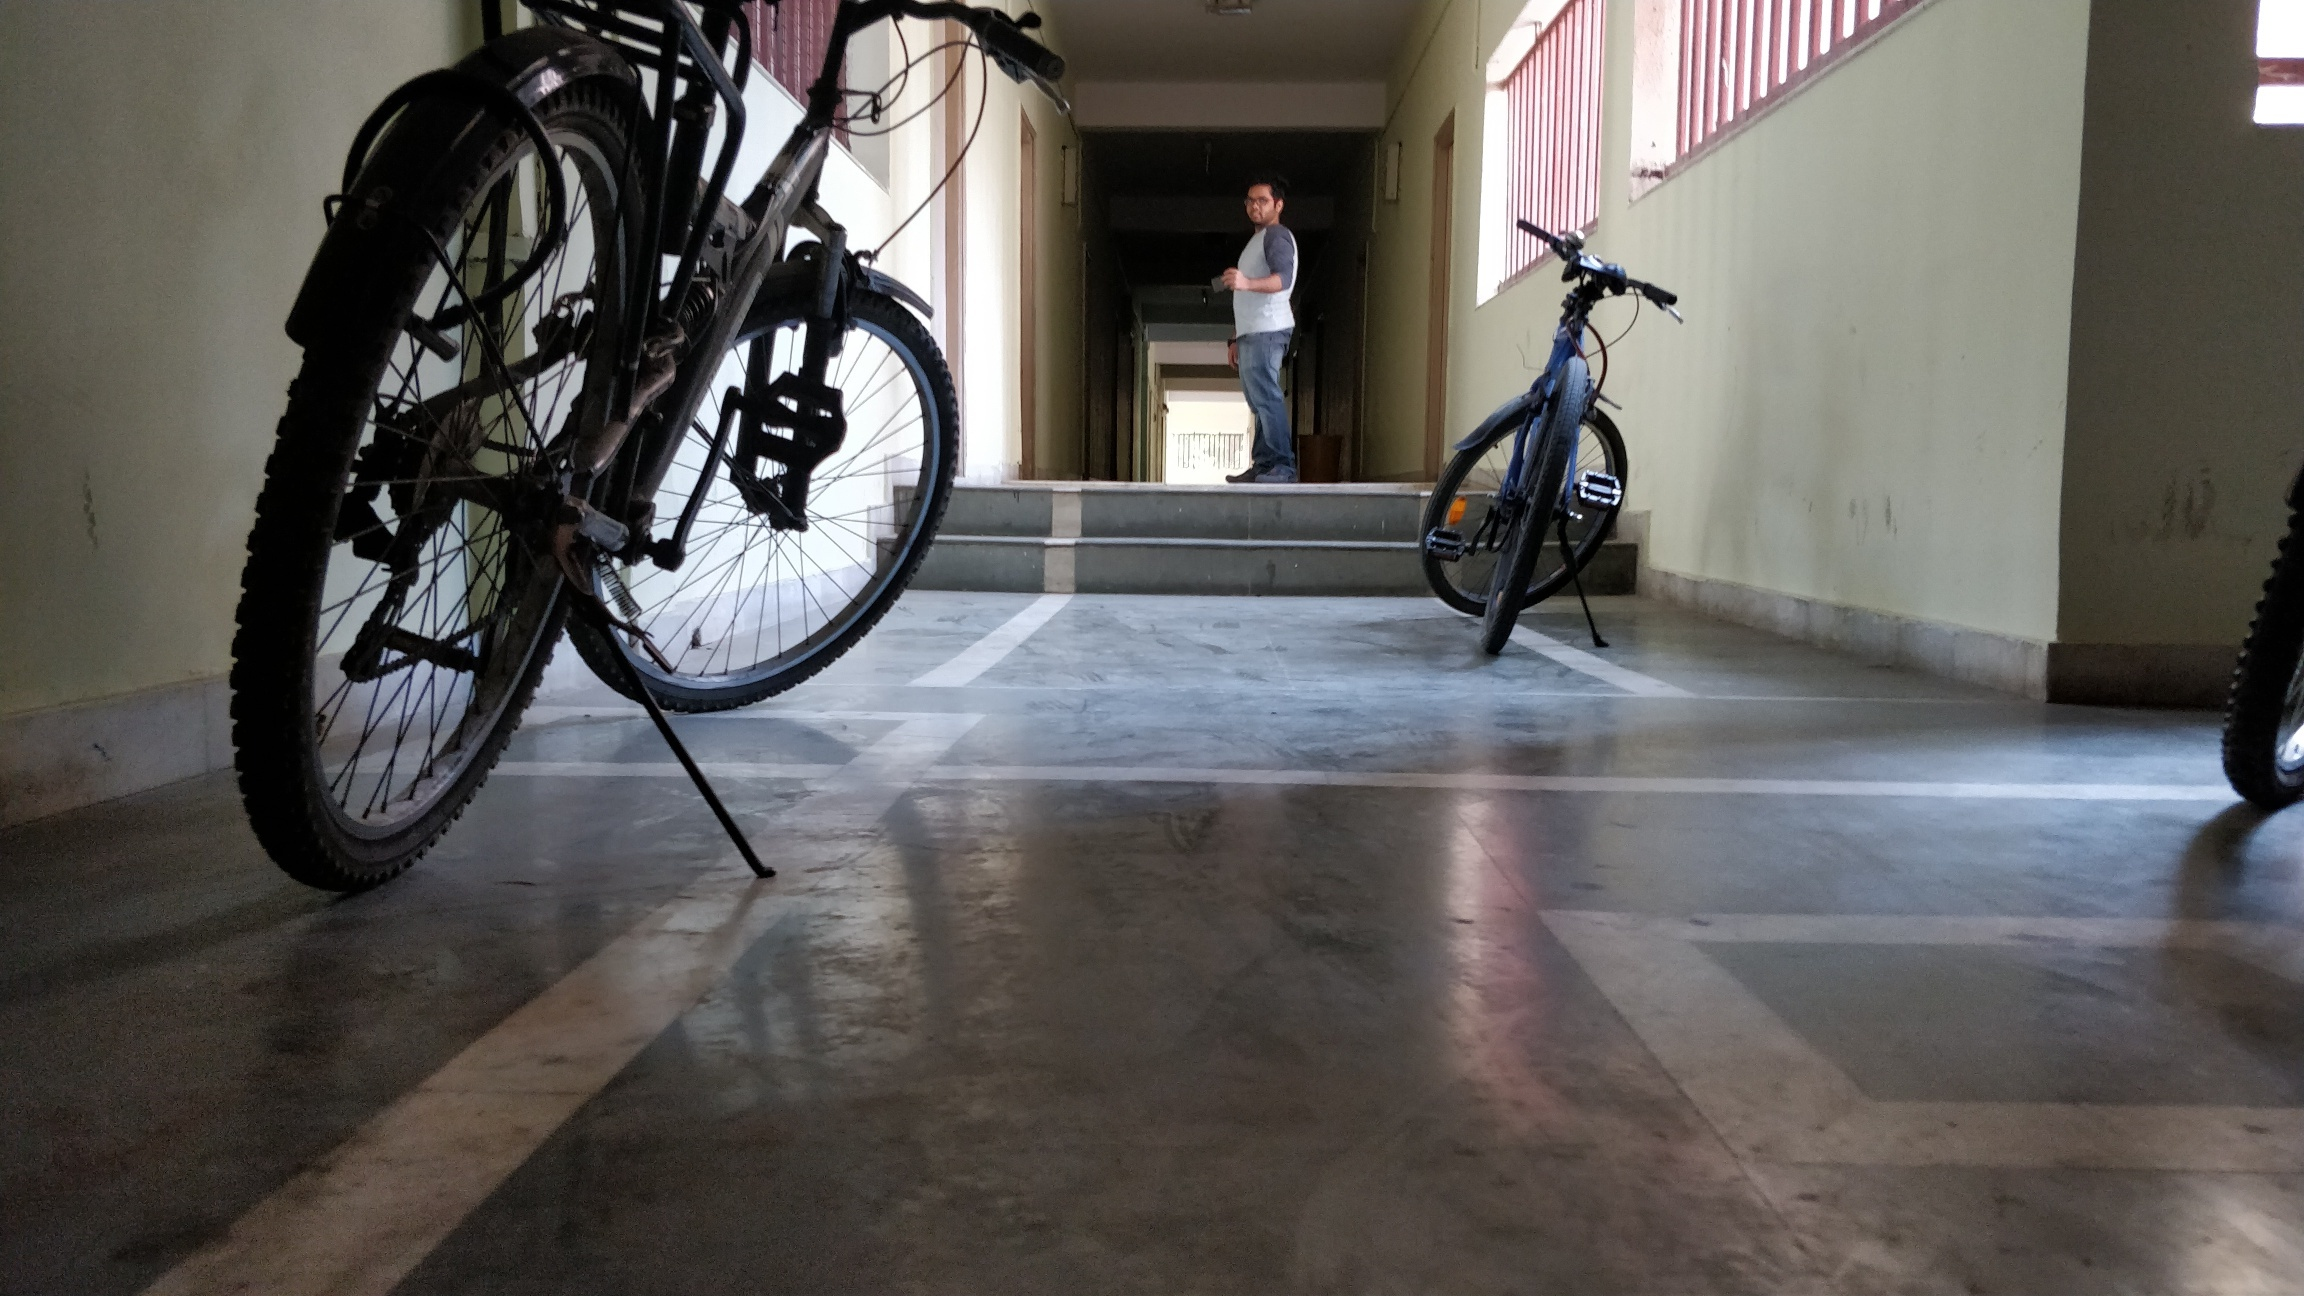stairs_up: (951, 481, 1435, 598)
